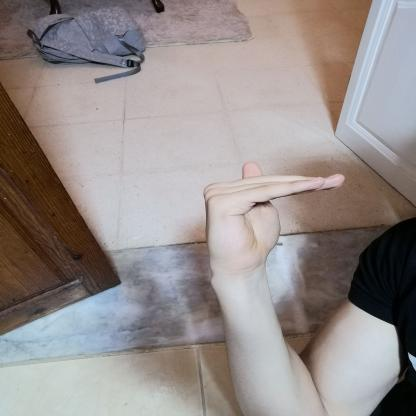KHAA: (187, 153, 362, 285)
